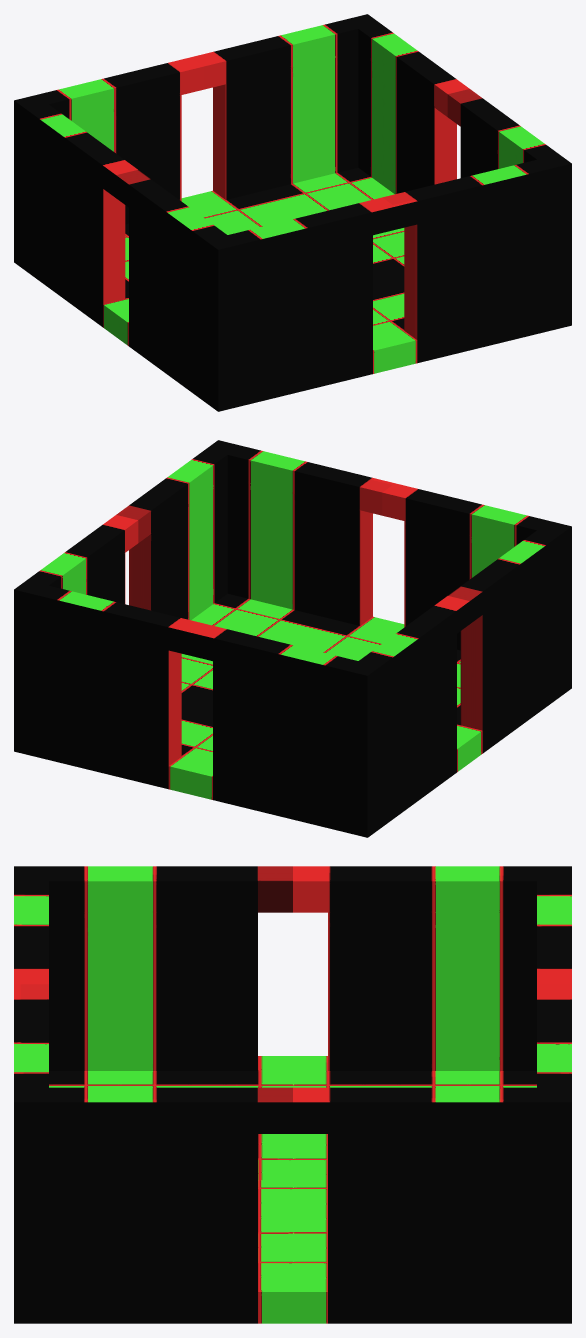
File: Room1.dae
3 views of the same model, one above another, from view 1: azimuth 30°, elevation 25°; view 2: azimuth 150°, elevation 25°; view 3: azimuth 270°, elevation 25° (orthographic). The views are drawn at different scales.
Visible parts, largest first — view 1: Plane; view 2: Plane; view 3: Plane.
Part boxes in pixels (x1,y1,x2,y2): Plane: (14, 14, 571, 411); Plane: (14, 440, 571, 837); Plane: (14, 866, 571, 1323).
Size of the model in its own units: 16 by 16 by 7.
1 material, 1 textured.
